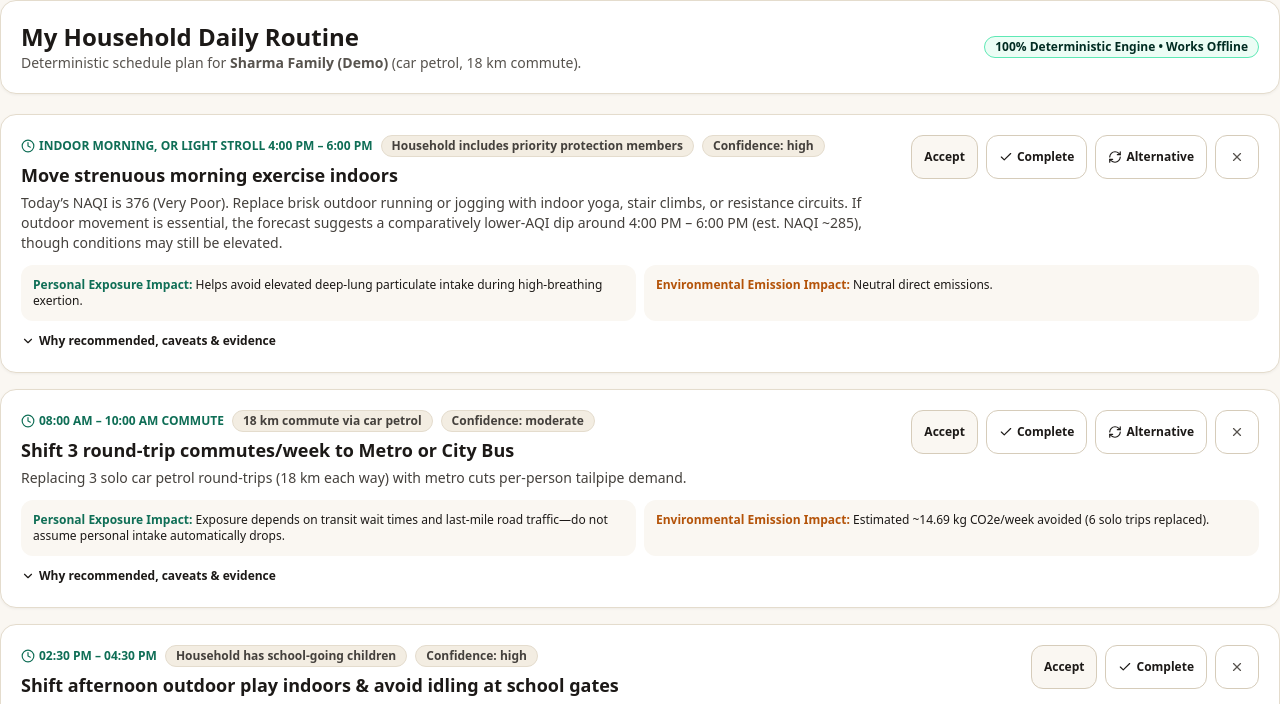
UI Screens & Accessible Visualizations › renders RoutineScreen and handles Accept, Complete, Dismiss, and Alternative toggles
This screenshot has width=1280, height=704.
Expected: the heading "My Household Daily Routine" is shown, [21, 20, 359, 53]
What coordinates should you click on to do the following:
click the button with aria-label "Accept:"
I would click on:
 (945, 157)
Its box is [911, 135, 978, 179].
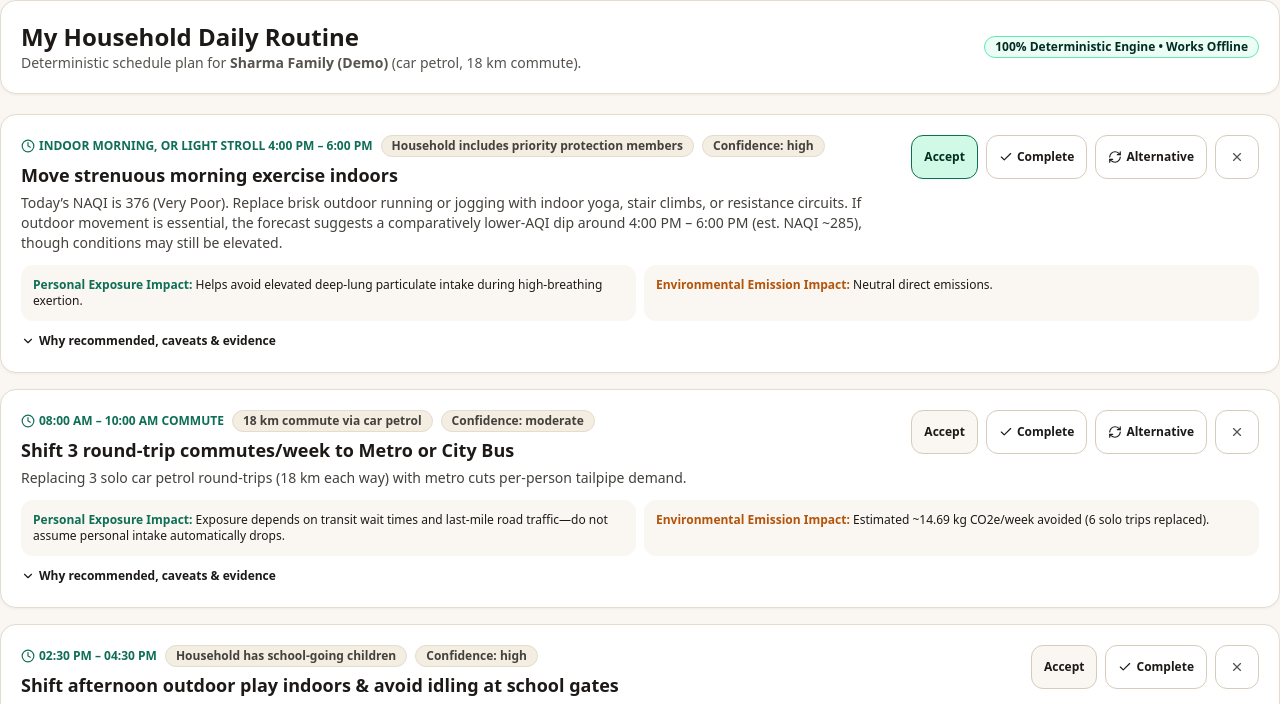
What coordinates should you click on to do the following:
click the button with aria-label "Complete:"
I would click on:
 (1037, 157)
Its box is [986, 135, 1087, 179].
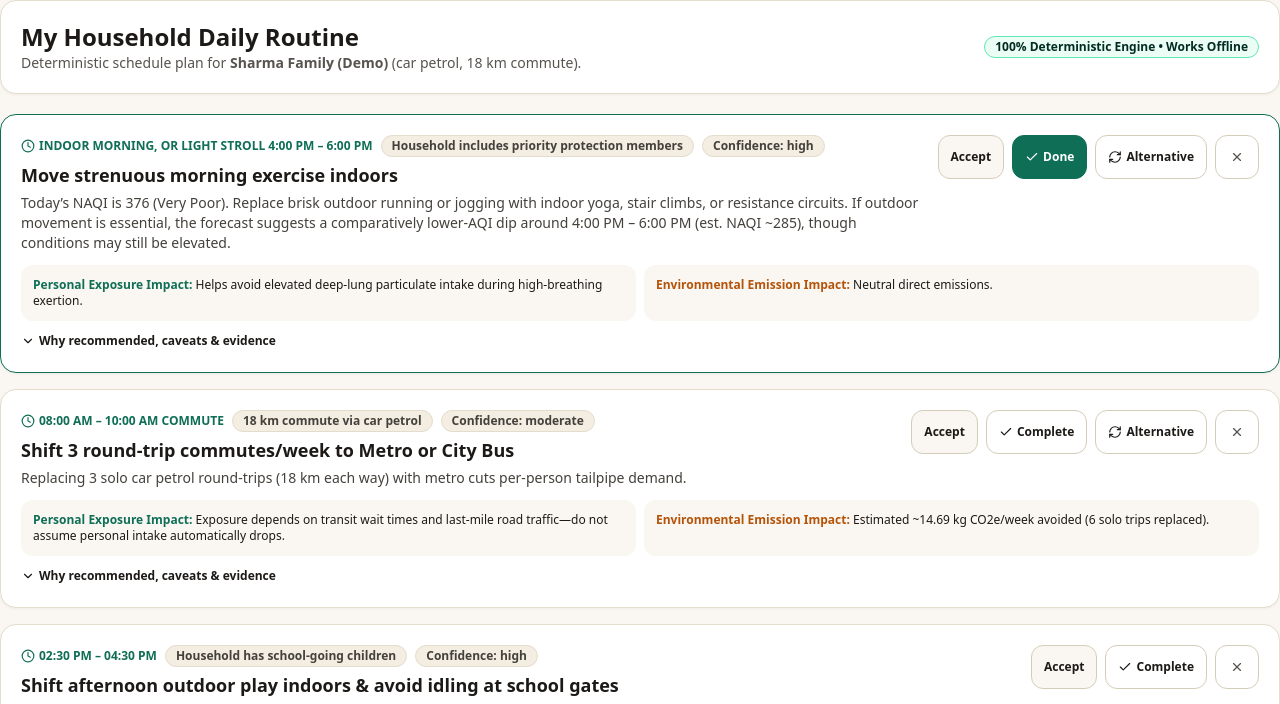
What coordinates should you click on to do the following:
click the button "Alternative" in the row of "Move strenuous morning exercise indoors"
I would click on:
 (1151, 157)
Its box is [1095, 135, 1207, 179].
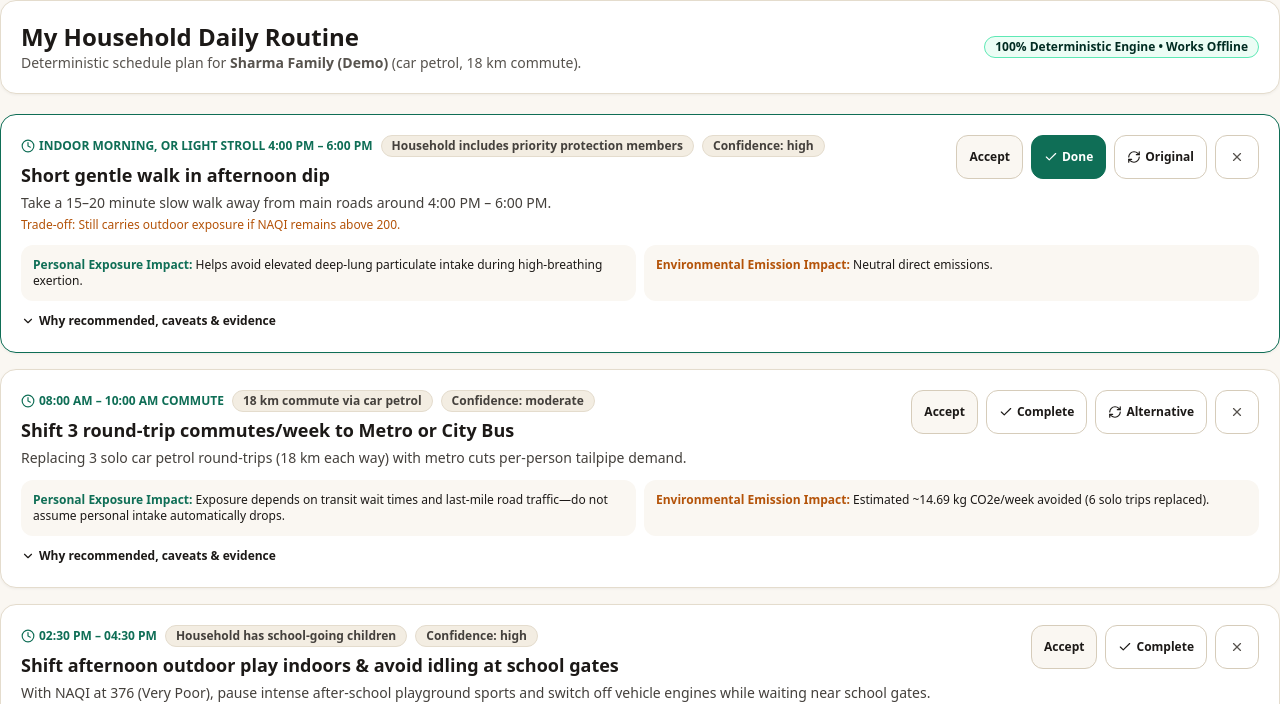
Now the text "Trade-off:" is shown, box [21, 216, 78, 233]
